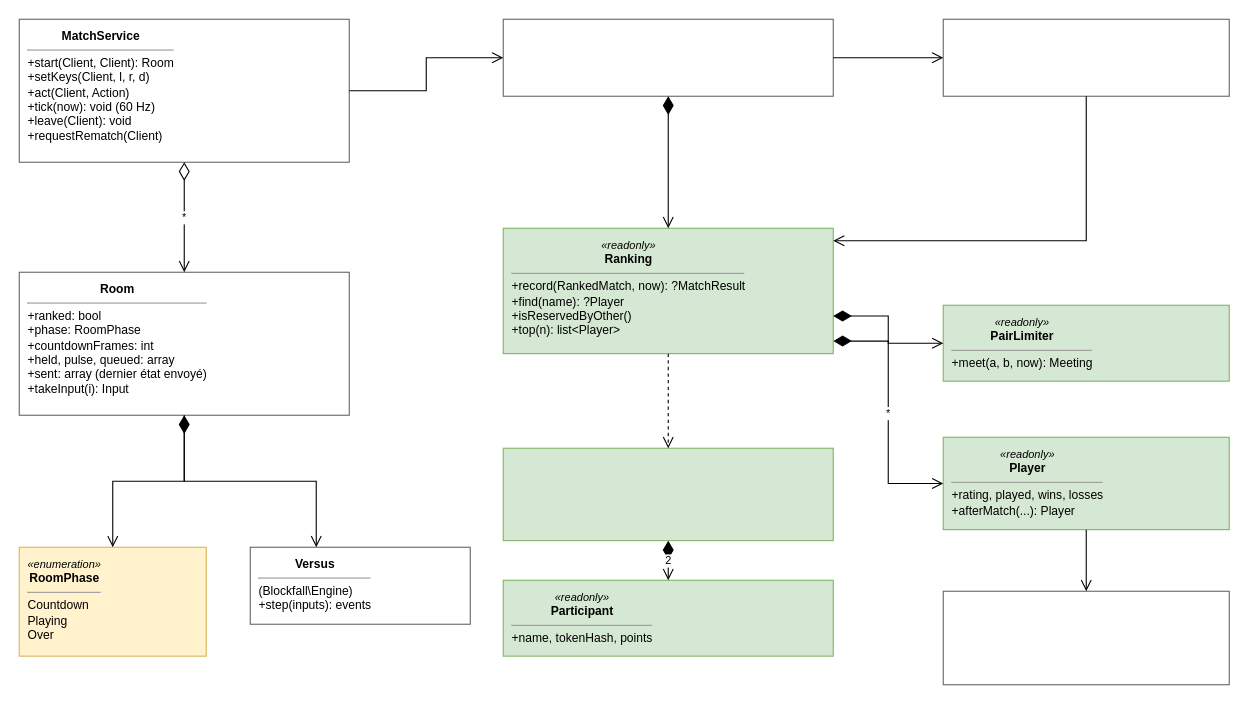
The diagram is 1249 pixels wide and 704 high, and some of its shapes have lost their labels. Here are the shapes that lost their labels. From the top down, the box of each, then its label:
(502, 18, 833, 96): RankingBook +ranking: Ranking +settle(RankedMatch): ?MatchResult
(942, 18, 1229, 96): RankingStore +load(): Ranking +save(Ranking): bool
(502, 447, 833, 541): «readonly» RankedMatch +a, b: Participant +aWon: bool
(942, 590, 1229, 685): Elo START 1000, FLOOR 100 +delta(...): int +kFactor(played): int
